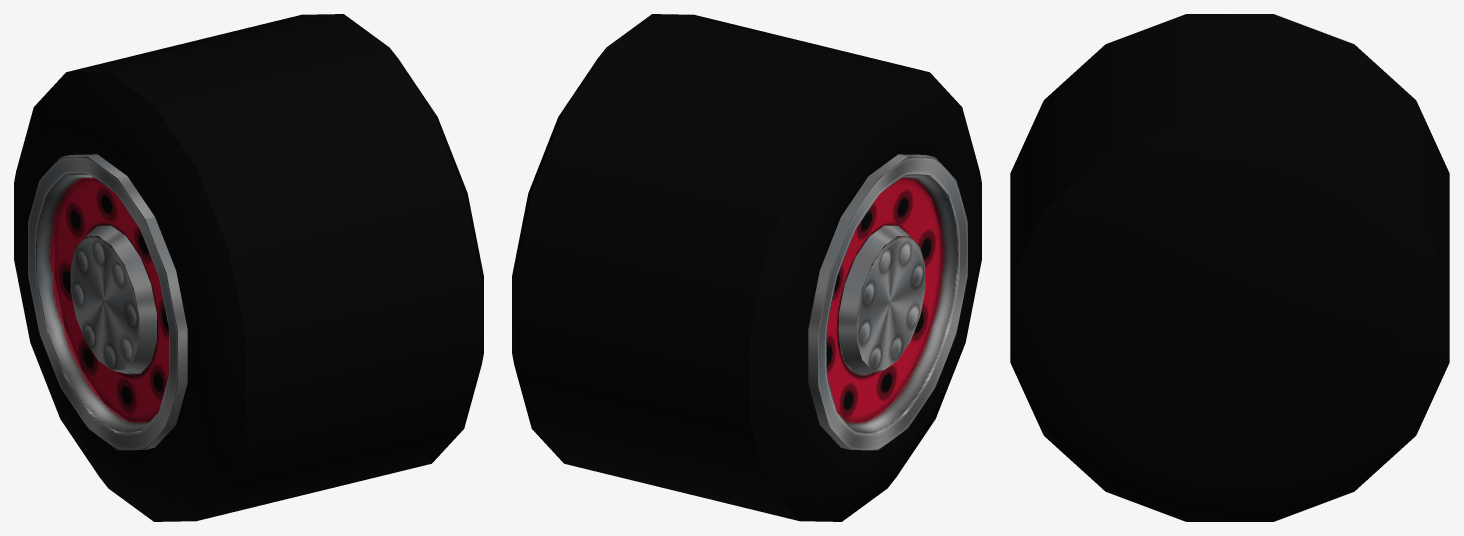
The model's file is wheel_firetruck.FBX.
3 renders of one model, left to right at view 1: azimuth 30°, elevation 25°; view 2: azimuth 150°, elevation 25°; view 3: azimuth 270°, elevation 25°, orthographic. The views are drawn at different scales.
Parts seen in each view (by area): view 1: wheel_fire001; view 2: wheel_fire001; view 3: wheel_fire001.
Part boxes in pixels (left/top/right/bottom): wheel_fire001: left=14, top=14, right=483, bottom=521; wheel_fire001: left=512, top=14, right=981, bottom=521; wheel_fire001: left=1010, top=14, right=1449, bottom=521.
Bounding box in the file's own units: 0.0876 × 0.1216 × 0.1216.
